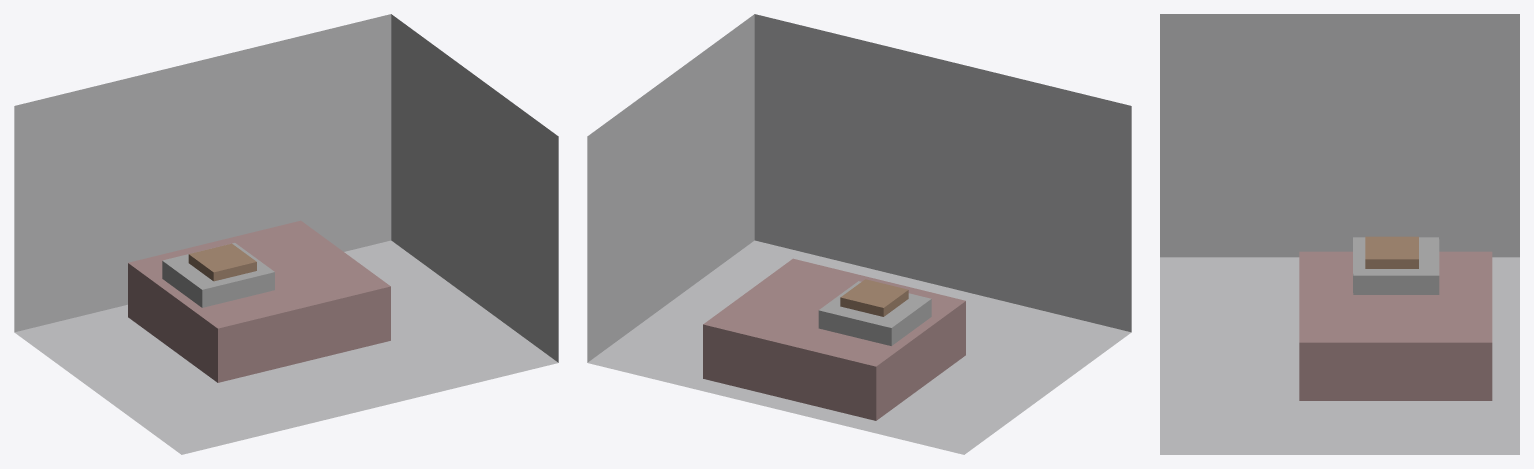
The model's file is current_layout.glb.
3 renders of one model, left to right at view 1: azimuth 30°, elevation 25°; view 2: azimuth 150°, elevation 25°; view 3: azimuth 270°, elevation 25°, orthographic. The views are drawn at different scales.
Visible parts, largest first — view 1: room, bed, studyTable, chair, bookShelf; view 2: room, bed, tableLamp, chair, studyTable, bookShelf; view 3: room, bed, tableLamp, chair, bookShelf, studyTable.
Boxes of the visible parts, x1,y1,x2,y2 form: room: (14, 14, 558, 454); bed: (128, 220, 390, 382); studyTable: (162, 261, 271, 307); chair: (188, 243, 256, 281); bookShelf: (162, 254, 270, 289); room: (587, 14, 1131, 454); bed: (703, 258, 965, 420); tableLamp: (818, 281, 903, 345); chair: (840, 279, 908, 316); studyTable: (889, 299, 931, 345); bookShelf: (839, 293, 931, 345); room: (1160, 14, 1519, 454); bed: (1299, 251, 1492, 400); tableLamp: (1353, 239, 1439, 294); chair: (1365, 236, 1418, 268); bookShelf: (1353, 237, 1438, 292); studyTable: (1353, 237, 1438, 254).
Bounding box in the file's own units: 4.36 × 2.5 × 3.35.
